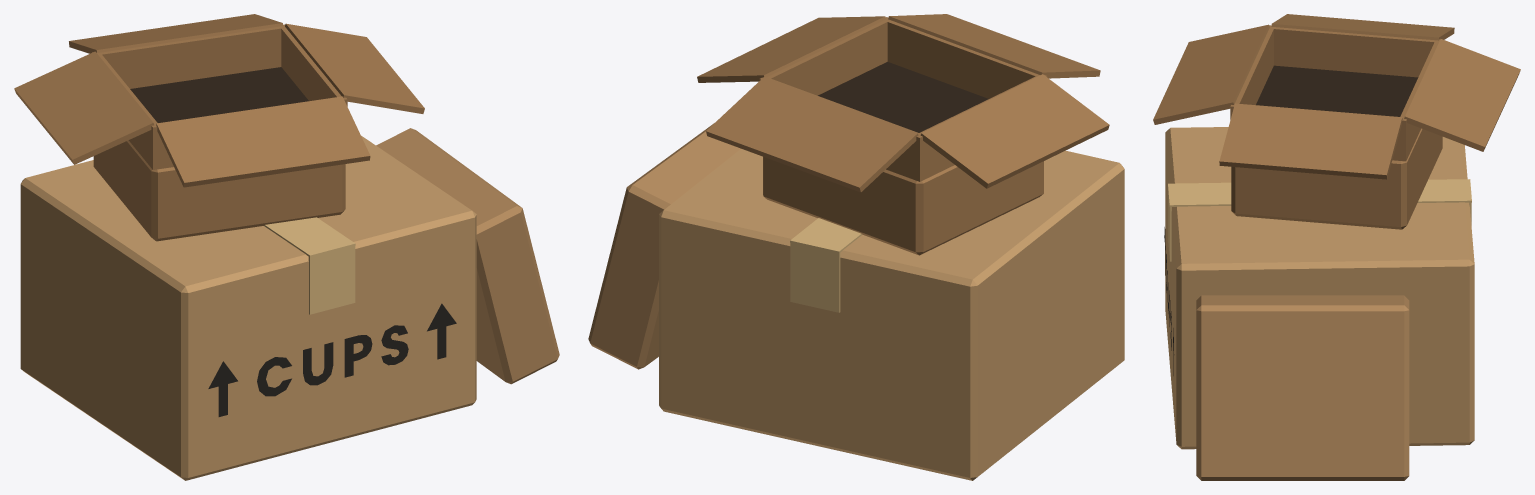
File: Shop_BoxStackSmall.fbx
The picture shows the model from 3 angles, left to right: view 1: azimuth 30°, elevation 25°; view 2: azimuth 150°, elevation 25°; view 3: azimuth 270°, elevation 25°; orthographic projection. The views are drawn at different scales.
Visible parts, largest first — view 1: BoxesLight, BoxesDark, Boxes, Inside, Tape, Stencil; view 2: BoxesLight, BoxesDark, Boxes, Inside, Tape; view 3: BoxesDark, BoxesLight, Boxes, Inside, Tape.
Part boxes in pixels (box(x1,y1,x2,y2)): BoxesLight: box(20, 135, 476, 480); BoxesDark: box(14, 14, 424, 241); Boxes: box(376, 128, 559, 384); Inside: box(130, 67, 308, 122); Tape: box(264, 217, 355, 314); Stencil: box(208, 303, 456, 416); BoxesLight: box(659, 148, 1124, 480); BoxesDark: box(697, 14, 1109, 255); Boxes: box(588, 123, 740, 369); Inside: box(818, 61, 988, 132); Tape: box(790, 218, 862, 312); BoxesDark: box(1153, 14, 1520, 229); BoxesLight: box(1165, 127, 1474, 449); Boxes: box(1196, 295, 1409, 480); Inside: box(1256, 65, 1418, 116); Tape: box(1168, 179, 1471, 261).
Bounding box in the file's own units: 285 × 194 × 216.
